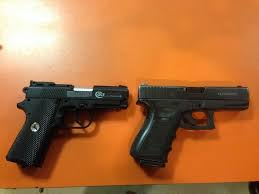gun: (3, 79, 133, 175), (137, 83, 251, 174)
